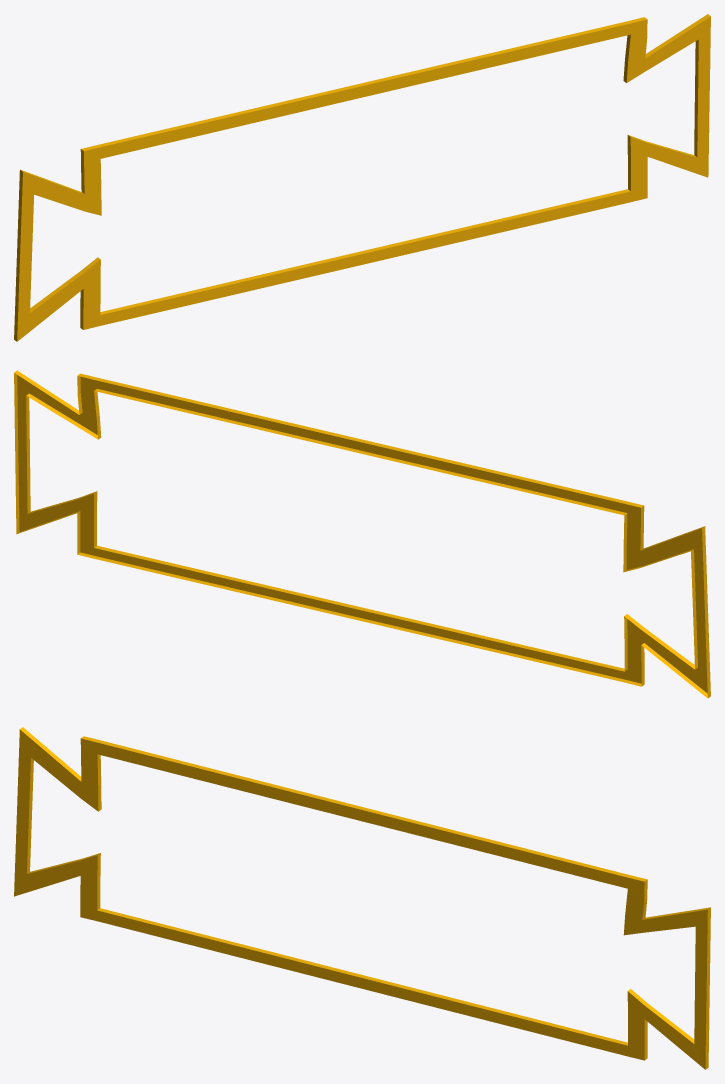
Rendered from Museum_Wall_Decoration.fbx.
3 views of the same model, one above another, from view 1: azimuth 30°, elevation 25°; view 2: azimuth 150°, elevation 25°; view 3: azimuth 330°, elevation 25° (orthographic).
Visible parts, largest first — view 1: Cube.001; view 2: Cube.001; view 3: Cube.001.
Boxes of the visible parts, bbox=[...] form: Cube.001: bbox=[14, 14, 710, 341]; Cube.001: bbox=[14, 370, 710, 698]; Cube.001: bbox=[14, 727, 710, 1069].
Bounding box in the file's own units: 1.53 × 0.3882 × 0.0125.
